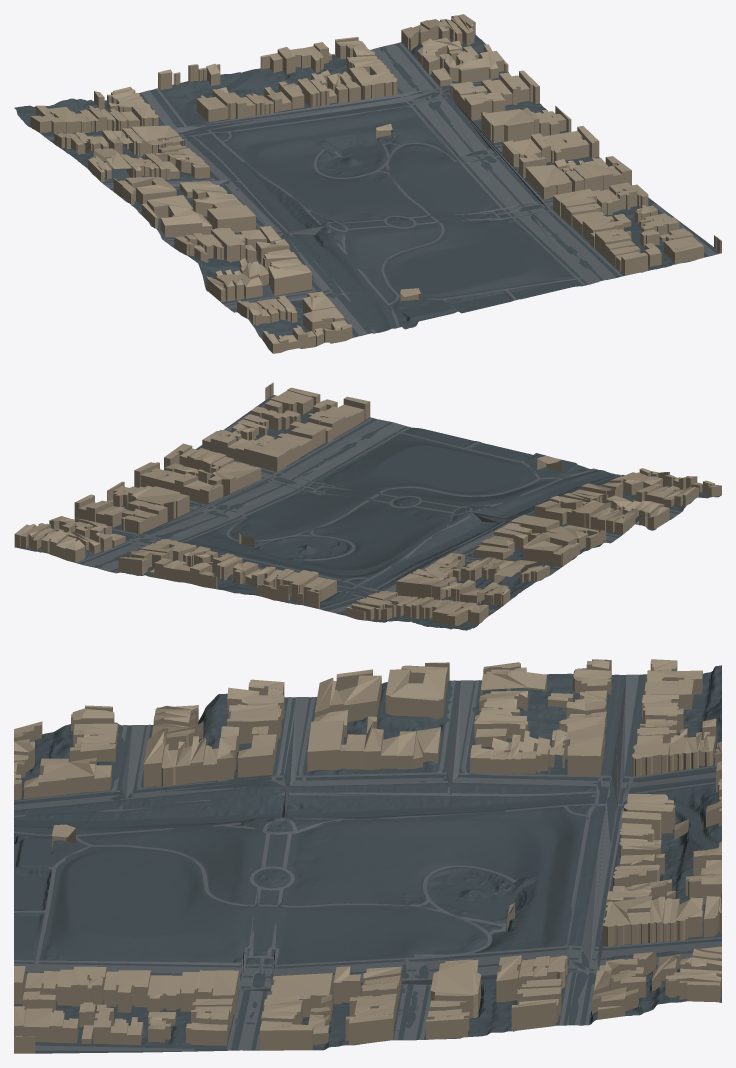
Rendered from epsg26910-1433-10883.lod0.glb.
3 renders of one model, top to bottom at view 1: azimuth 30°, elevation 25°; view 2: azimuth 150°, elevation 25°; view 3: azimuth 270°, elevation 25°, orthographic. The views are drawn at different scales.
Parts seen in each view (by area): view 1: epsg26910-1433-10883-lod0; view 2: epsg26910-1433-10883-lod0; view 3: epsg26910-1433-10883-lod0.
Part boxes in pixels (x1,y1,x2,y2): epsg26910-1433-10883-lod0: (14,14,721,353); epsg26910-1433-10883-lod0: (14,382,721,630); epsg26910-1433-10883-lod0: (14,659,721,1053).
Size of the model in its own units: 384 by 58.15 by 384.
